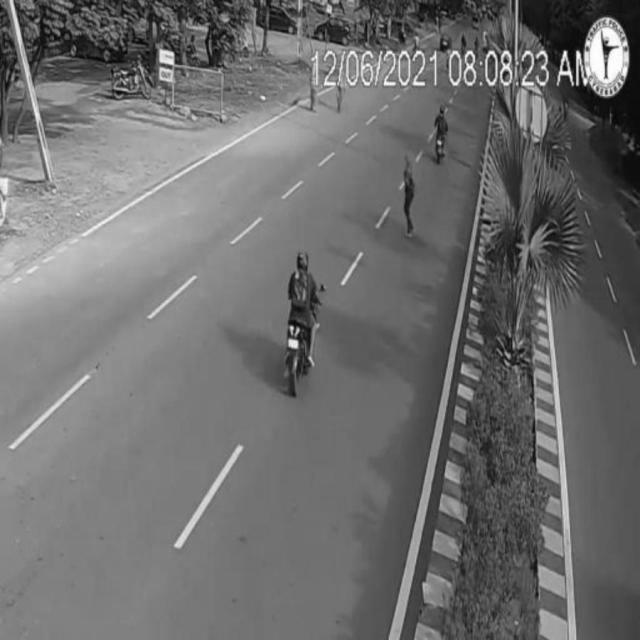person: (403, 154, 418, 242)
vehicle: (286, 248, 327, 392), (433, 105, 448, 169)
